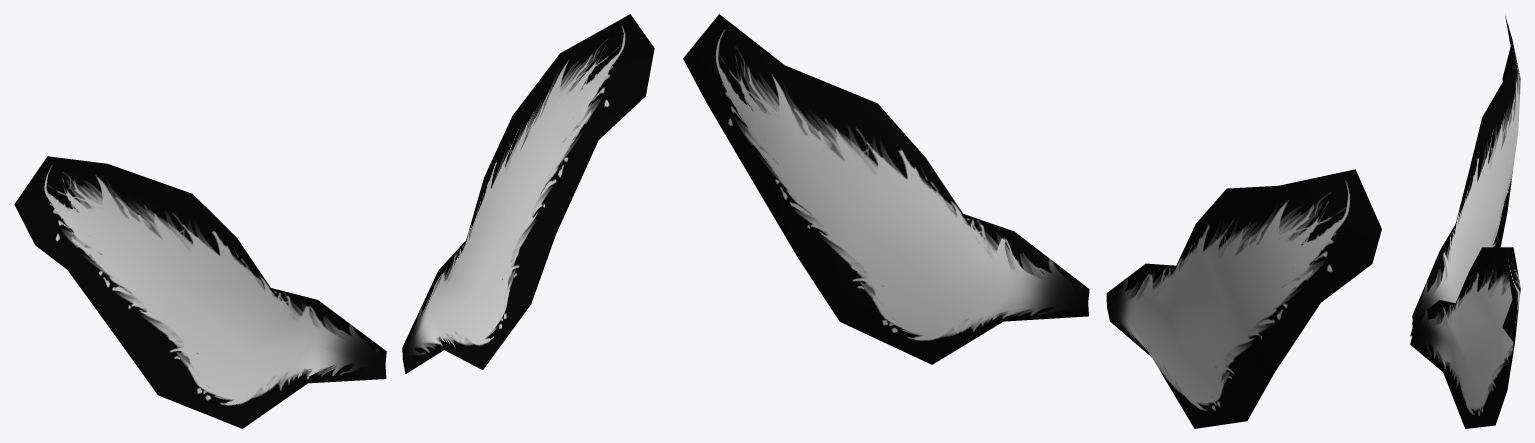
The model's file is mesh_Vlad_Wings.fbx.
The picture shows the model from 3 angles, left to right: view 1: azimuth 30°, elevation 25°; view 2: azimuth 150°, elevation 25°; view 3: azimuth 270°, elevation 25°; orthographic projection. The views are drawn at different scales.
Visible parts, largest first — view 1: mesh_Vlad_Wings; view 2: mesh_Vlad_Wings; view 3: mesh_Vlad_Wings.
Part boxes in pixels (bbox=[...]): mesh_Vlad_Wings: bbox=[14, 14, 654, 428]; mesh_Vlad_Wings: bbox=[683, 14, 1381, 428]; mesh_Vlad_Wings: bbox=[1410, 16, 1520, 428].
Size of the model in its own units: 595 by 264 by 107.
